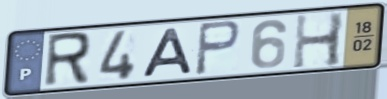4: (97, 27, 138, 83)
6: (248, 17, 289, 71)
A: (138, 25, 197, 79)
H: (290, 10, 348, 72)
P: (192, 19, 243, 78)
R: (41, 30, 94, 90)
